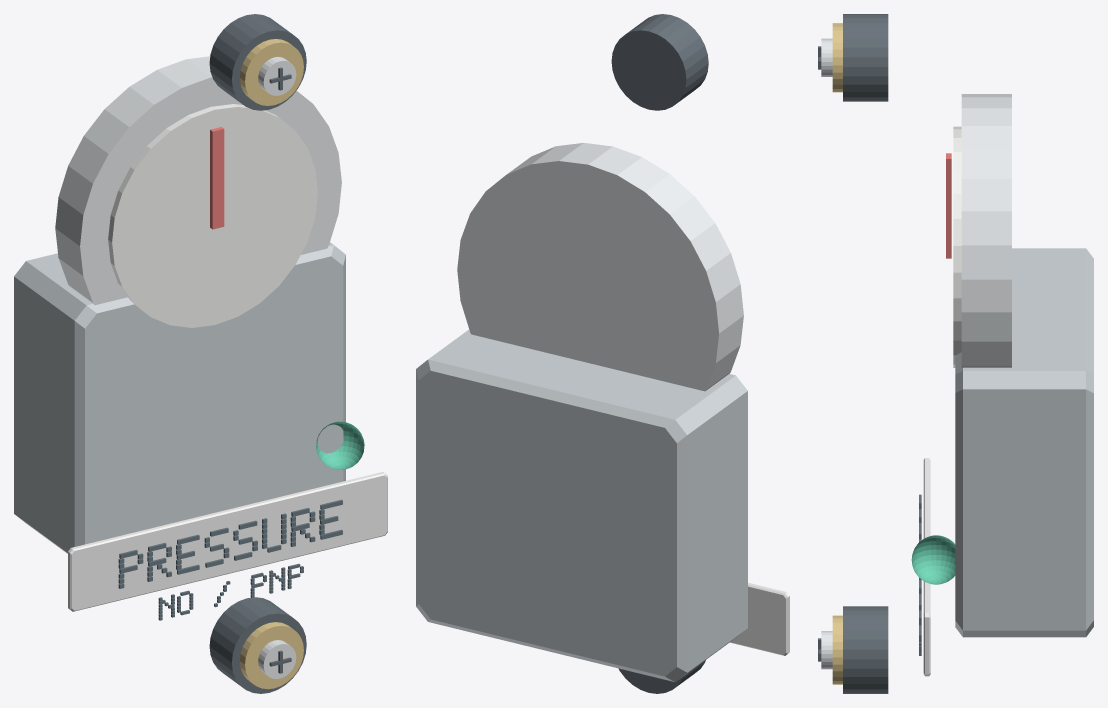
File: pressureSwitch.glb
3 views of the same model, side by side, from view 1: azimuth 30°, elevation 25°; view 2: azimuth 150°, elevation 25°; view 3: azimuth 270°, elevation 25° (orthographic).
Parts seen in each view (by area): view 1: pressureSwitch-detailed; view 2: pressureSwitch-detailed; view 3: pressureSwitch-detailed.
Boxes of the visible parts, box(x1,y1,x2,y2) form: pressureSwitch-detailed: box(14, 14, 387, 693); pressureSwitch-detailed: box(416, 14, 789, 693); pressureSwitch-detailed: box(818, 14, 1093, 693).
Bounding box in the file's own units: 1.33 × 2.65 × 0.9845.
